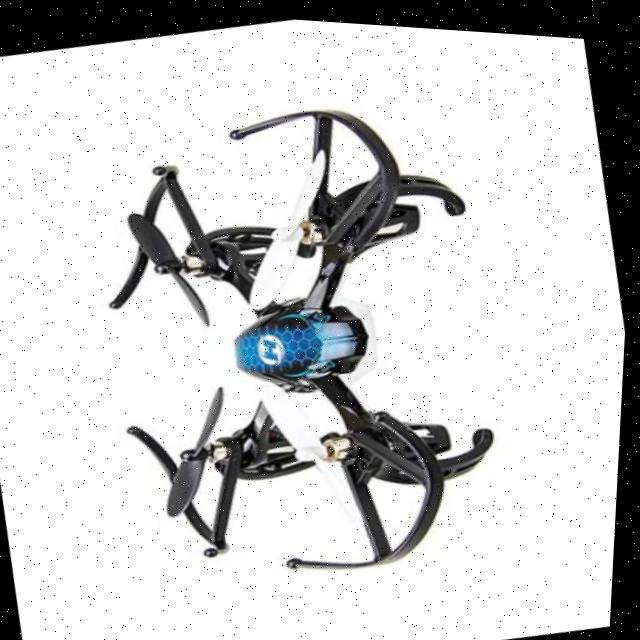drones: (40, 45, 550, 640)
